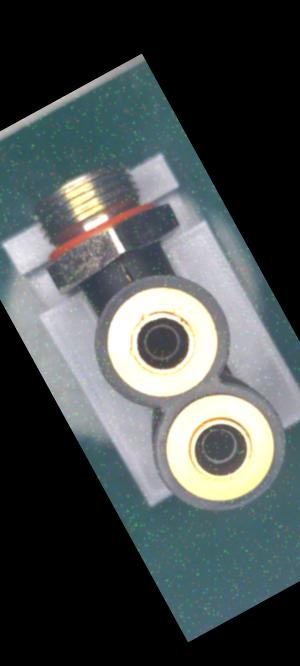craze: (111, 250, 139, 284)
